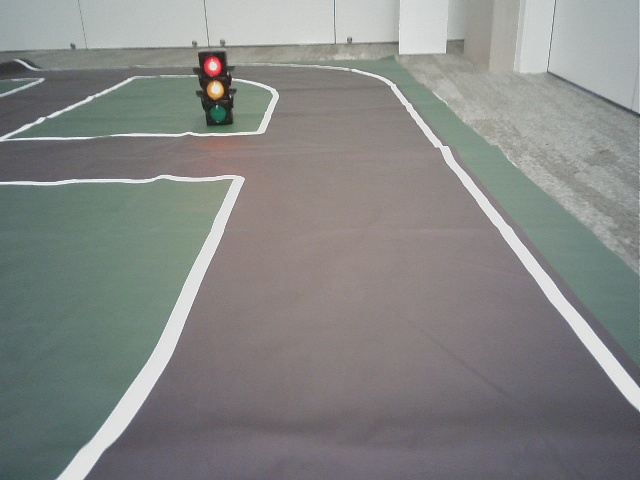red: (197, 55, 230, 123)
